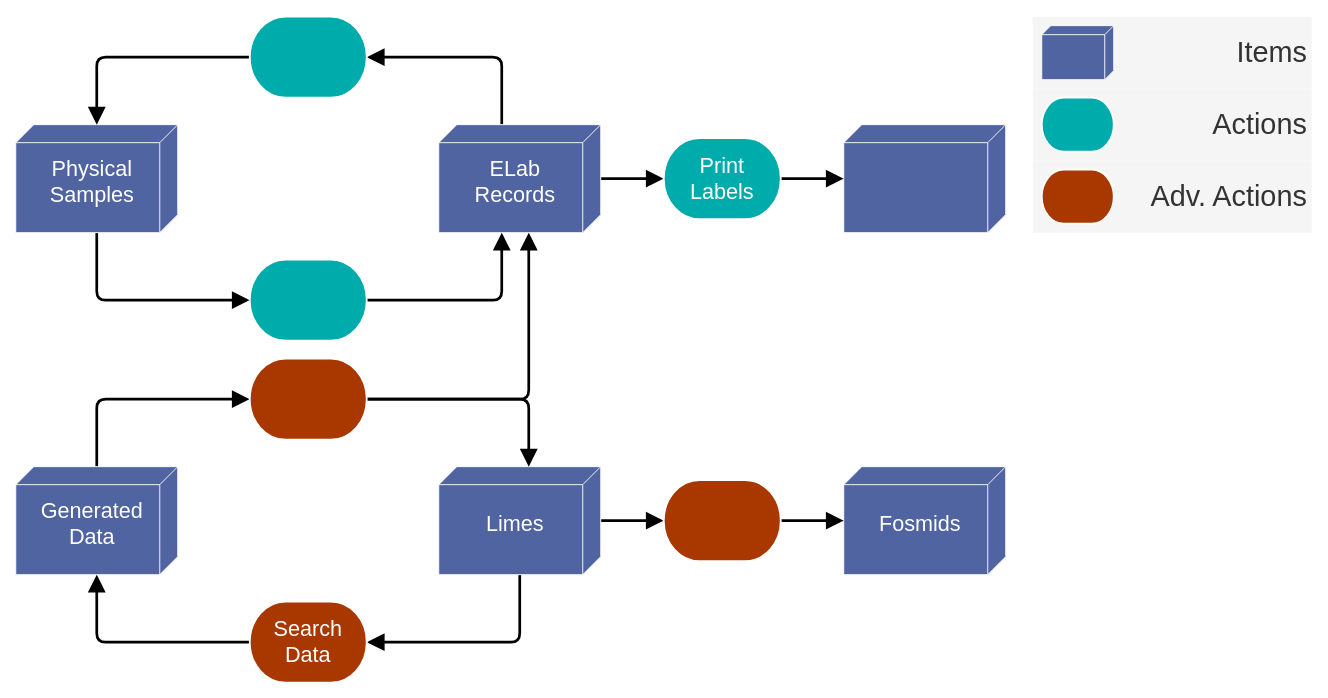
The diagram is 1328 pixels wide and 698 high, and some of its shapes have lost their labels. The shapes that lost their labels are listed below. From the top down, each one's centre as x and y in pixels, then its label:
pixel 307 56: Search Inventory
pixel 924 178: Barcoded Labels
pixel 307 299: Add Samples
pixel 307 398: Link Data
pixel 721 520: Search Fosmids
